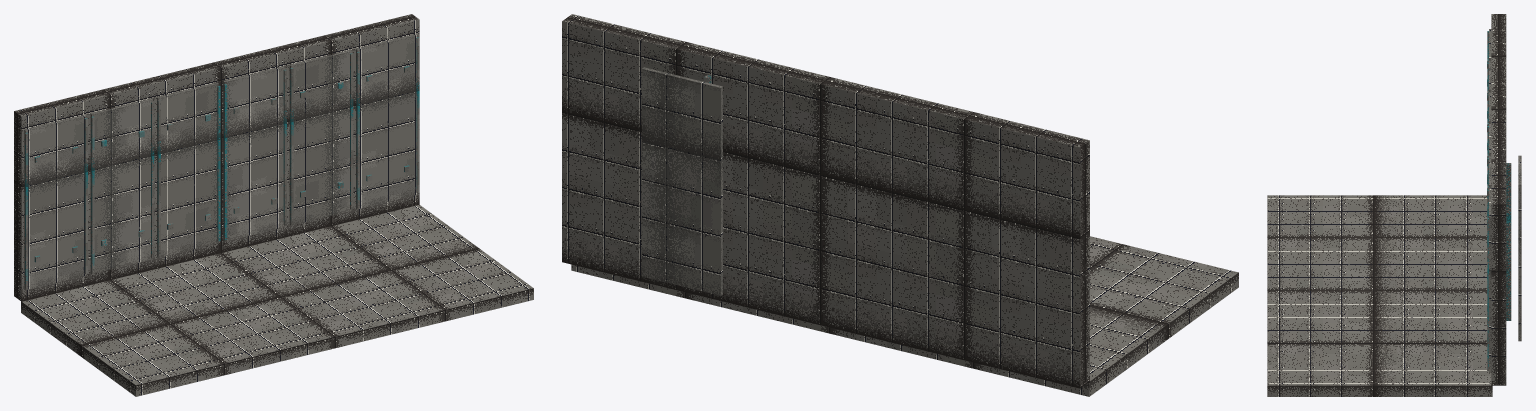
Rendered from secret_partial_sightline.glb.
The picture shows the model from 3 angles, left to right: view 1: azimuth 30°, elevation 25°; view 2: azimuth 150°, elevation 25°; view 3: azimuth 270°, elevation 25°; orthographic projection. The views are drawn at different scales.
Parts seen in each view (by area): view 1: secret_partial_sightline; view 2: secret_partial_sightline; view 3: secret_partial_sightline.
Boxes of the visible parts, <box> form: secret_partial_sightline: <box>14,14,533,396</box>; secret_partial_sightline: <box>562,14,1238,396</box>; secret_partial_sightline: <box>1267,14,1521,396</box>.
Bounding box in the file's own units: 7.2 × 3.4 × 4.06.
4 materials, 4 textured.
